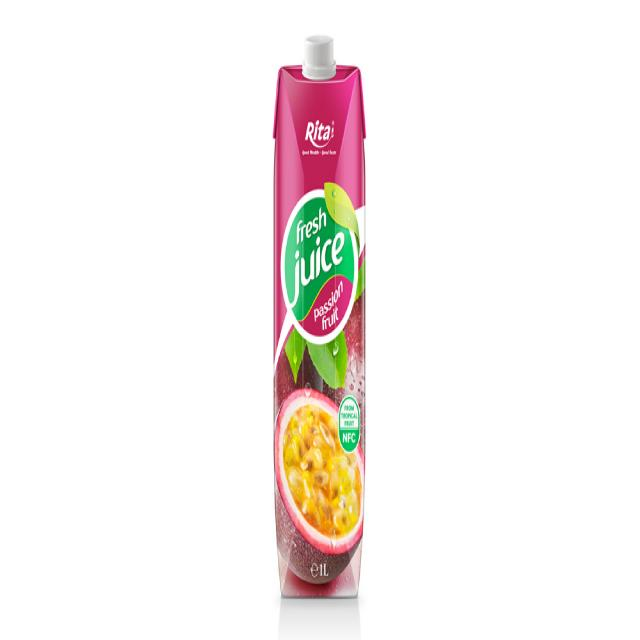non_white_jug: (267, 11, 372, 598)
